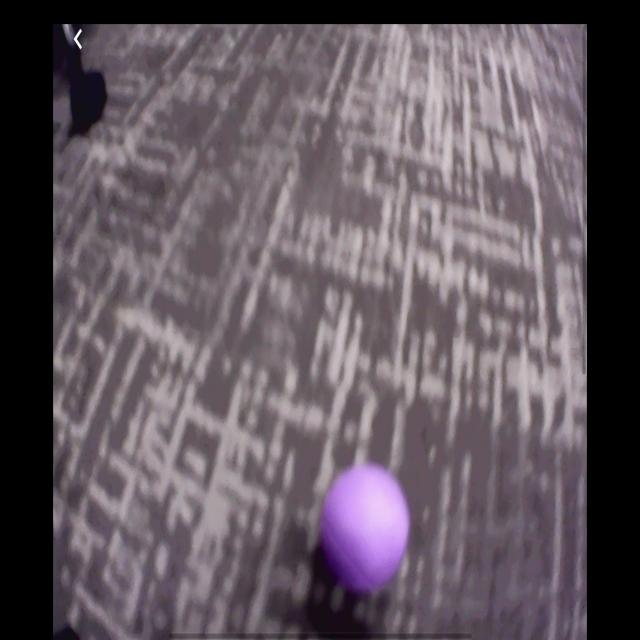ball: (319, 462, 412, 598)
